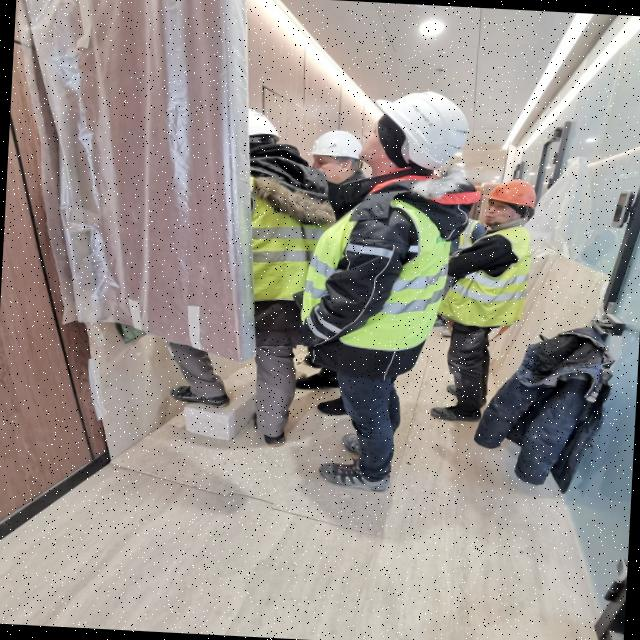Helmet: (374, 88, 472, 174), (308, 130, 364, 162), (484, 180, 538, 212), (246, 110, 275, 141)
Jacket: (327, 198, 441, 347), (246, 183, 312, 295), (466, 229, 527, 325)
